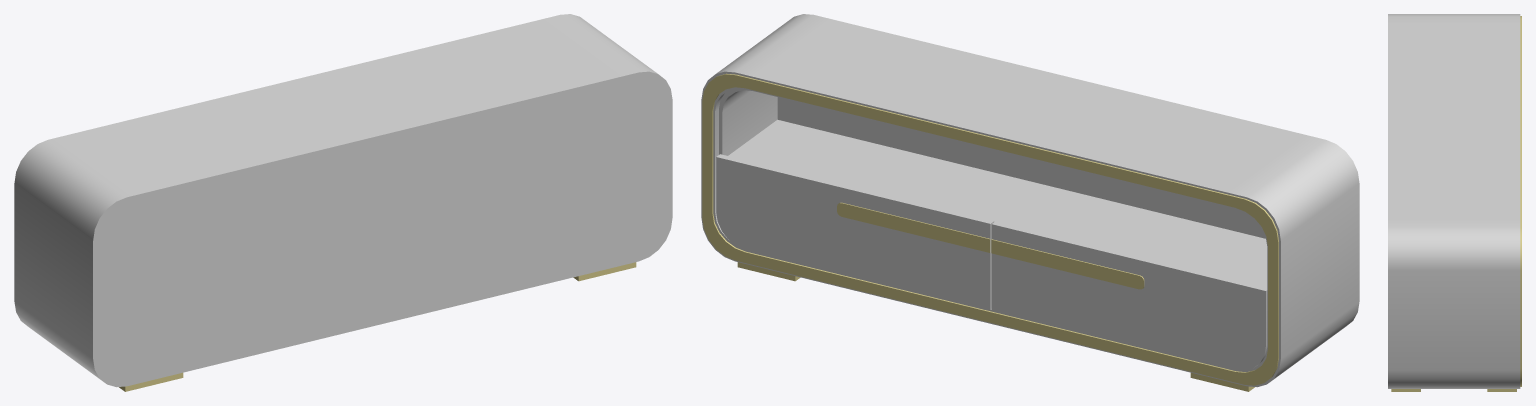
The model's file is TvStand17.glb.
The picture shows the model from 3 angles, left to right: view 1: azimuth 30°, elevation 25°; view 2: azimuth 150°, elevation 25°; view 3: azimuth 270°, elevation 25°; orthographic projection. The views are drawn at different scales.
Visible parts, largest first — view 1: TvStand17; view 2: TvStand17; view 3: TvStand17.
Part boxes in pixels (box(x1,y1,x2,y2)): TvStand17: box(14, 14, 672, 391); TvStand17: box(701, 14, 1359, 391); TvStand17: box(1388, 14, 1521, 391).
Bounding box in the file's own units: 1.7 × 0.55 × 0.4046.
